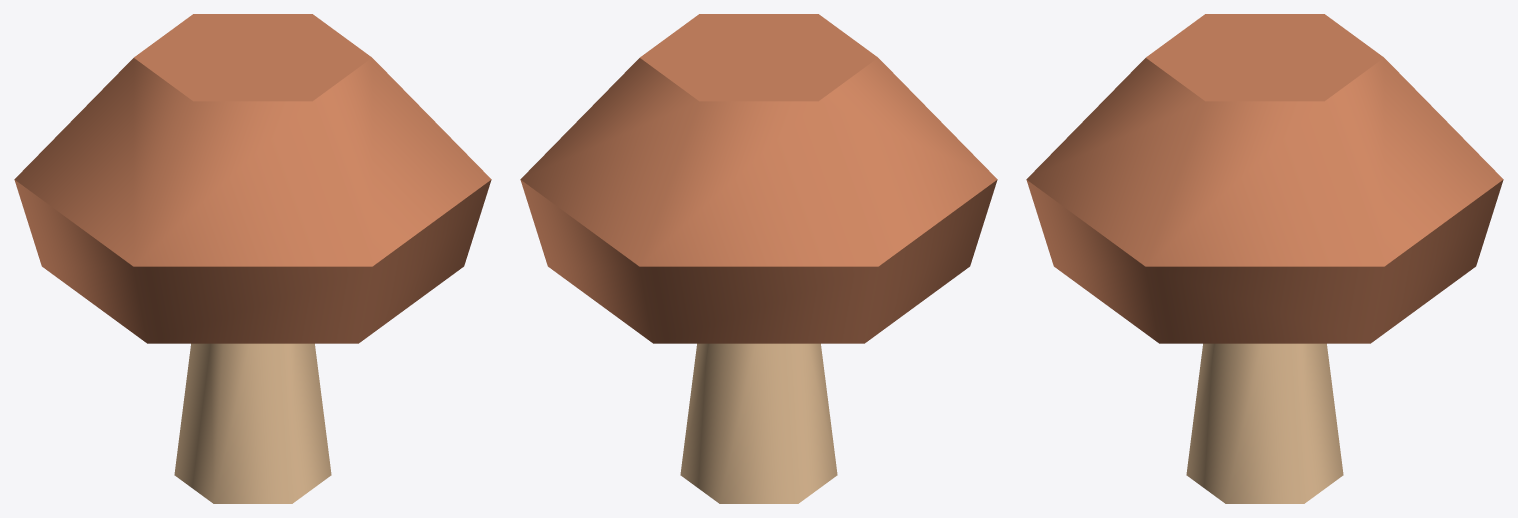
The model's file is Mushroom.glb.
3 views of the same model, side by side, from view 1: azimuth 30°, elevation 25°; view 2: azimuth 150°, elevation 25°; view 3: azimuth 270°, elevation 25° (orthographic).
Parts seen in each view (by area): view 1: Mushroom; view 2: Mushroom; view 3: Mushroom.
Part boxes in pixels (x1,y1,x2,y2): Mushroom: (14, 14, 491, 503); Mushroom: (520, 14, 997, 503); Mushroom: (1026, 14, 1503, 503).
Bounding box in the file's own units: 0.1249 × 0.1392 × 0.1442.
